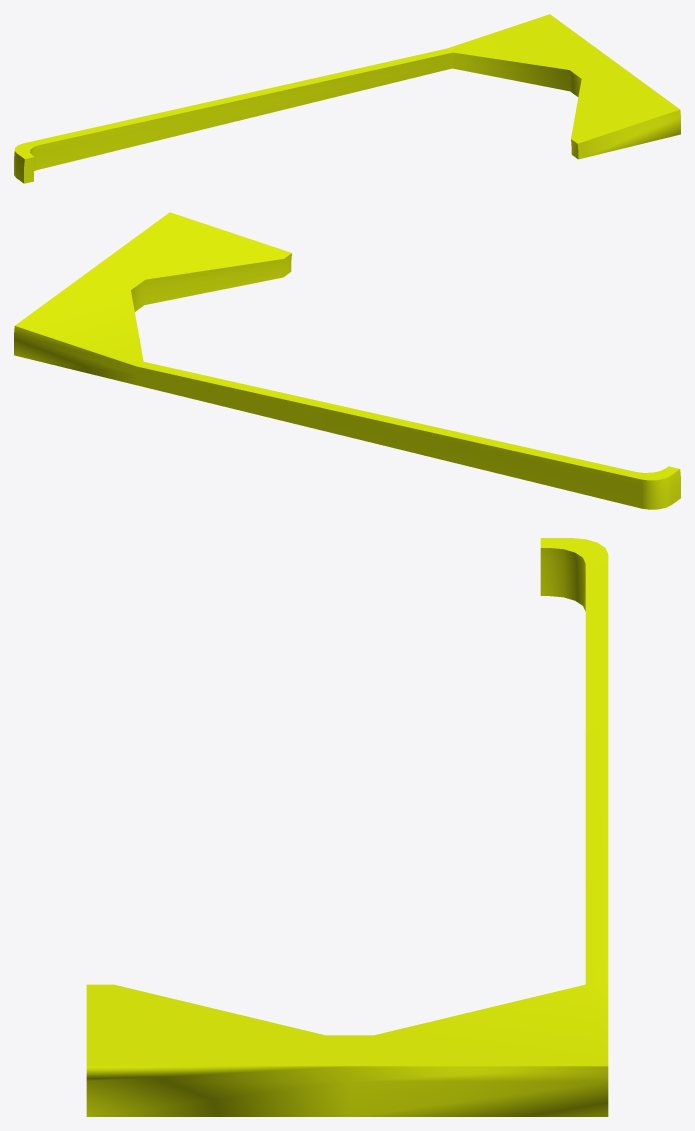
The model's file is Walls.fbx.
The picture shows the model from 3 angles, top to bottom: view 1: azimuth 30°, elevation 25°; view 2: azimuth 150°, elevation 25°; view 3: azimuth 270°, elevation 25°; orthographic projection. The views are drawn at different scales.
Visible parts, largest first — view 1: Walls; view 2: Walls; view 3: Walls.
Boxes of the visible parts, left/top/right/bottom form: Walls: left=14, top=14, right=680, bottom=183; Walls: left=14, top=212, right=680, bottom=509; Walls: left=86, top=538, right=608, bottom=1116.
Size of the model in its own units: 3.34 by 0.1483 by 1.39.
